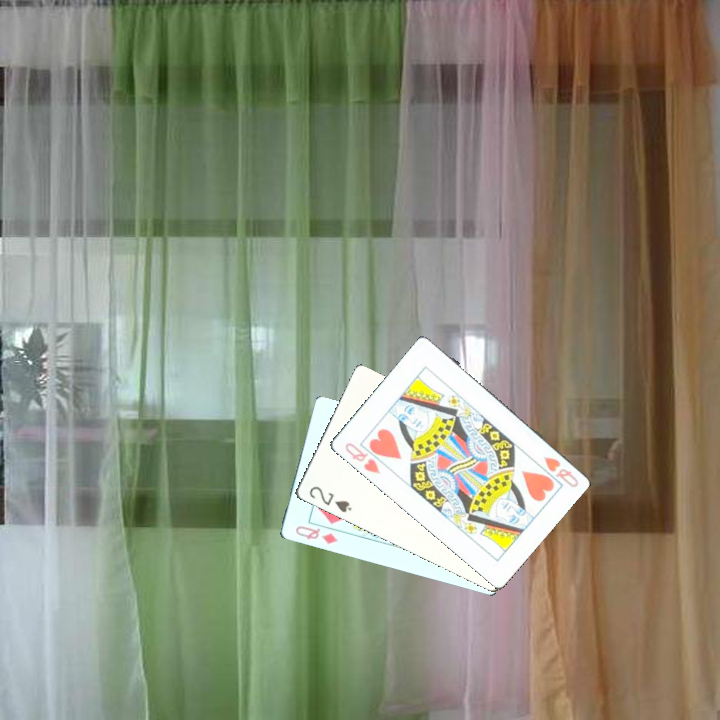2s: (305, 482, 354, 515)
Qd: (291, 514, 343, 547)
Qh: (341, 436, 390, 477), (539, 452, 581, 490)
